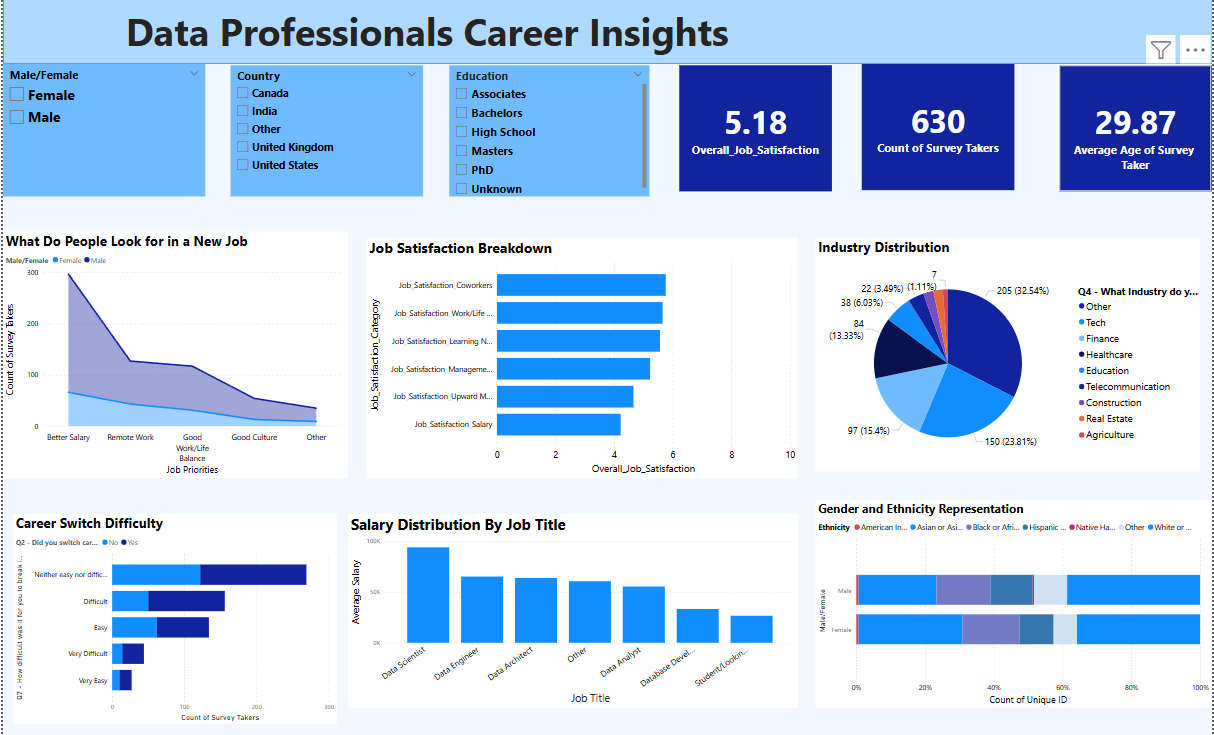

The dashboard page shown, as its layout file describes it:
{"tool":"powerbi","page":{"name":"Page 1","canvas":[2300,1400],"ordinal":0},"visuals":[{"type":"card","fields":{"Values":["Data Professional Survey.Overall_Job_Satisfaction"]},"box":[394.5,123.3,291,241.6],"z":0},{"type":"shape","box":[0,0,2300.5,123.3],"z":1000},{"type":"textbox","box":[229.3,7.4,1348.7,115.9],"z":2000},{"type":"card","fields":{"Values":["Count(Data Professional Survey.Unique ID)"]},"box":[710.1,123.3,291,241.6],"z":3000},{"type":"card","fields":{"Values":["Avg(Data Professional Survey.Q10 - Current Age)"]},"box":[1033.1,123.3,291,241.6],"z":4000},{"type":"columnChart","title":"Salary Distribution By Job Title","fields":{"Category":["Data Professional Survey.Q1 - Which Title Best Fits your Current Role?.1"],"Y":["Avg(Data Professional Survey.Average Salary)"]},"box":[1351.2,123.3,944.4,374.8],"z":5000},{"type":"slicer","fields":{"Values":["Data Professional Survey.Q9 - Male/Female?"]},"box":[0,167.7,364.9,123.3],"z":6000},{"type":"clusteredBarChart","title":"Job Satisfaction Breakdown","fields":{"Y":["Data Professional Survey.Overall_Job_Satisfaction"],"Category":["Data Professional Survey.Job_Satisfaction_Category"]},"box":[401.9,394.5,922.2,490.7],"z":7000},{"type":"barChart","title":"Career Switch Difficulty","fields":{"Category":["Data Professional Survey.Q7 - How difficult was it for you to break into Data?"],"Y":["Count(Data Professional Survey.Unique ID)"],"Series":["Data Professional Survey.Q2 - Did you switch careers into Data?"]},"box":[685.5,932,734.8,468.5],"z":8000},{"type":"pieChart","title":"Industry Distribution","fields":{"Category":["Data Professional Survey.Q4 - What Industry do you work in?"],"Y":["Count(Data Professional Survey.Unique ID)"]},"box":[1437.5,520.3,816.1,468.5],"z":9000},{"type":"hundredPercentStackedColumnChart","title":"Gender and Ethnicity Representation","fields":{"Category":["Data Professional Survey.Q9 - Male/Female?"],"Series":["Data Professional Survey.Q13 - Ethnicity.1"],"Y":["Count(Data Professional Survey.Unique ID)"]},"box":[1499.1,1018.3,796.4,382.2],"z":10000},{"type":"stackedAreaChart","title":"What Do People Look for in a New Job","fields":{"Category":["Data Professional Survey.Q8 - If you were to look for a new job today, what would be the most important t"],"Y":["Count(Data Professional Survey.Unique ID)"],"Series":["Data Professional Survey.Q9 - Male/Female?"]},"box":[0,932,655.9,468.5],"z":11000},{"type":"slicer","fields":{"Values":["Data Professional Survey.Q11 - Which Country do you live in?.1"]},"box":[0,310.7,364.9,209.6],"z":12000},{"type":"slicer","fields":{"Values":["Data Professional Survey.Q12 - Highest Level of Education"]},"box":[0,537.5,364.9,258.9],"z":13000}]}

Visuals, with their boxes in screenshot pixels (x1, y1, x2, y2), scaled from the page's 2300x1400 canvas onto the 1214x735 screenshot:
card - Data Professional Survey.Overall_Job_Satisfaction: bbox(208, 65, 362, 192)
shape: bbox(0, 0, 1213, 65)
textbox: bbox(121, 4, 833, 65)
card - Count(Data Professional Survey.Unique ID): bbox(375, 65, 528, 192)
card - Avg(Data Professional Survey.Q10 - Current Age): bbox(545, 65, 699, 192)
"Salary Distribution By Job Title" columnChart: bbox(713, 65, 1212, 262)
slicer - Data Professional Survey.Q9 - Male/Female?: bbox(0, 88, 193, 153)
"Job Satisfaction Breakdown" clusteredBarChart: bbox(212, 207, 699, 465)
"Career Switch Difficulty" barChart: bbox(362, 489, 750, 734)
"Industry Distribution" pieChart: bbox(759, 273, 1190, 519)
"Gender and Ethnicity Representation" hundredPercentStackedColumnChart: bbox(791, 535, 1212, 734)
"What Do People Look for in a New Job" stackedAreaChart: bbox(0, 489, 346, 734)
slicer - Data Professional Survey.Q11 - Which Country do you live in?.1: bbox(0, 163, 193, 273)
slicer - Data Professional Survey.Q12 - Highest Level of Education: bbox(0, 282, 193, 418)
